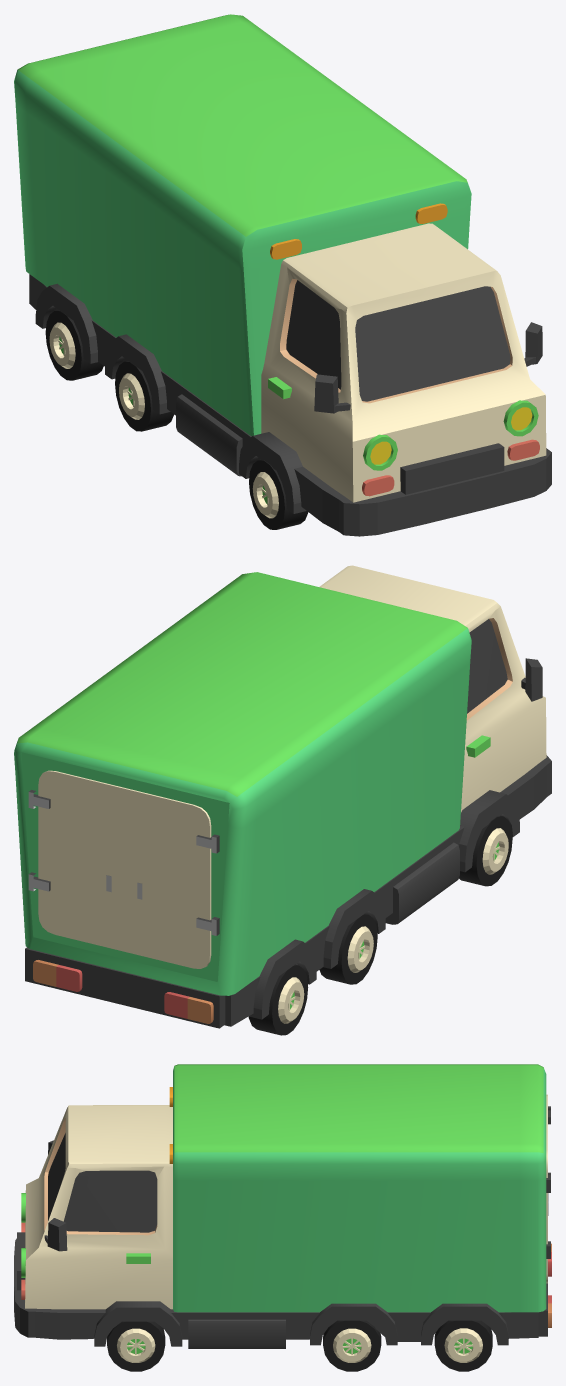
File: Green_Big_Truck.fbx
3 views of the same model, one above another, from view 1: azimuth 30°, elevation 25°; view 2: azimuth 150°, elevation 25°; view 3: azimuth 270°, elevation 25° (orthographic). The views are drawn at different scales.
Parts seen in each view (by area): view 1: Green_Big_Truck, Green_Big_Truck_Wheel2, Green_Big_Truck_Wheel3, Green_Big_Truck_Wheel; view 2: Green_Big_Truck, Back_Right_Door, Back_Left_Door, Green_Big_Truck_Wheel2, Green_Big_Truck_Wheel3, Green_Big_Truck_Wheel; view 3: Green_Big_Truck, Green_Big_Truck_Wheel3, Green_Big_Truck_Wheel2, Green_Big_Truck_Wheel, Back_Left_Door.
Boxes of the visible parts, box(x1,y1,x2,y2) form: Green_Big_Truck: box(14, 14, 551, 536); Green_Big_Truck_Wheel2: box(115, 360, 173, 431); Green_Big_Truck_Wheel3: box(45, 310, 103, 380); Green_Big_Truck_Wheel: box(249, 459, 308, 529); Green_Big_Truck: box(14, 565, 551, 1028); Back_Right_Door: box(124, 788, 219, 968); Back_Left_Door: box(28, 770, 124, 951); Green_Big_Truck_Wheel2: box(319, 913, 377, 984); Green_Big_Truck_Wheel3: box(248, 964, 308, 1035); Green_Big_Truck_Wheel: box(459, 815, 512, 886); Green_Big_Truck: box(14, 1064, 551, 1348); Green_Big_Truck_Wheel3: box(434, 1320, 492, 1371); Green_Big_Truck_Wheel2: box(323, 1320, 381, 1371); Green_Big_Truck_Wheel: box(107, 1321, 165, 1371); Back_Left_Door: box(546, 1123, 550, 1283).
Bounding box in the file's own units: 269 × 305 × 665.
